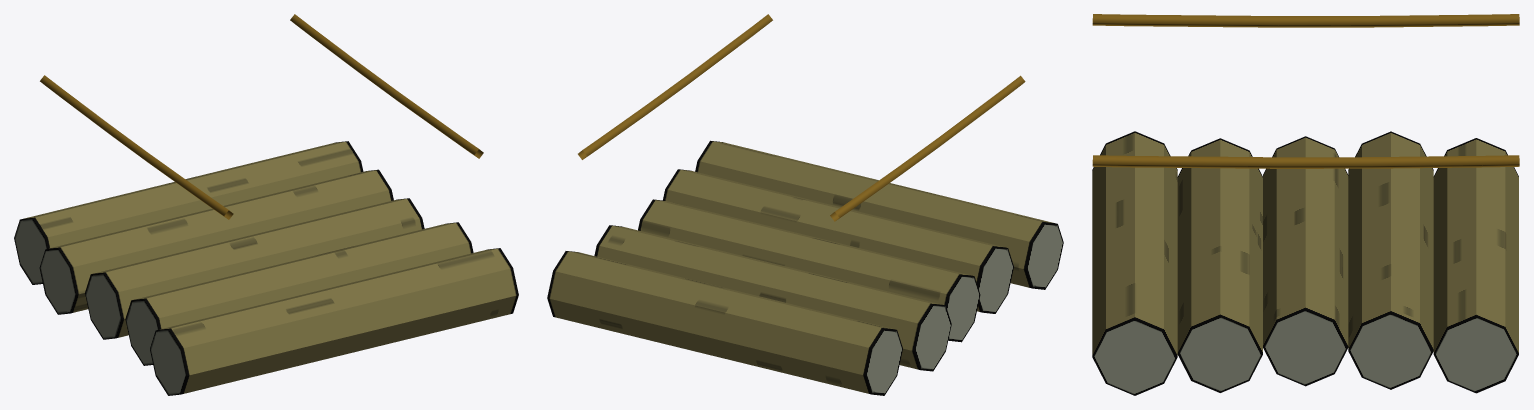
The model's file is Bridge_Mid3.glb.
The picture shows the model from 3 angles, left to right: view 1: azimuth 30°, elevation 25°; view 2: azimuth 150°, elevation 25°; view 3: azimuth 270°, elevation 25°; orthographic projection. The views are drawn at different scales.
Visible parts, largest first — view 1: Bridge_Mid3; view 2: Bridge_Mid3; view 3: Bridge_Mid3.
Boxes of the visible parts, x1,y1,x2,y2 form: Bridge_Mid3: (14,14,518,395); Bridge_Mid3: (547,14,1063,395); Bridge_Mid3: (1092,14,1519,395).
Bounding box in the file's own units: 2.08 × 1.13 × 2.
Materials: 1 (1 with a texture image).
